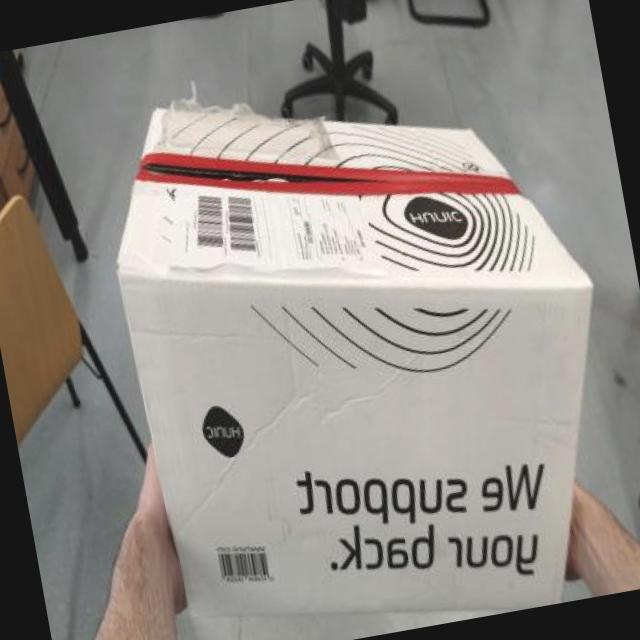box: (49, 20, 640, 640)
